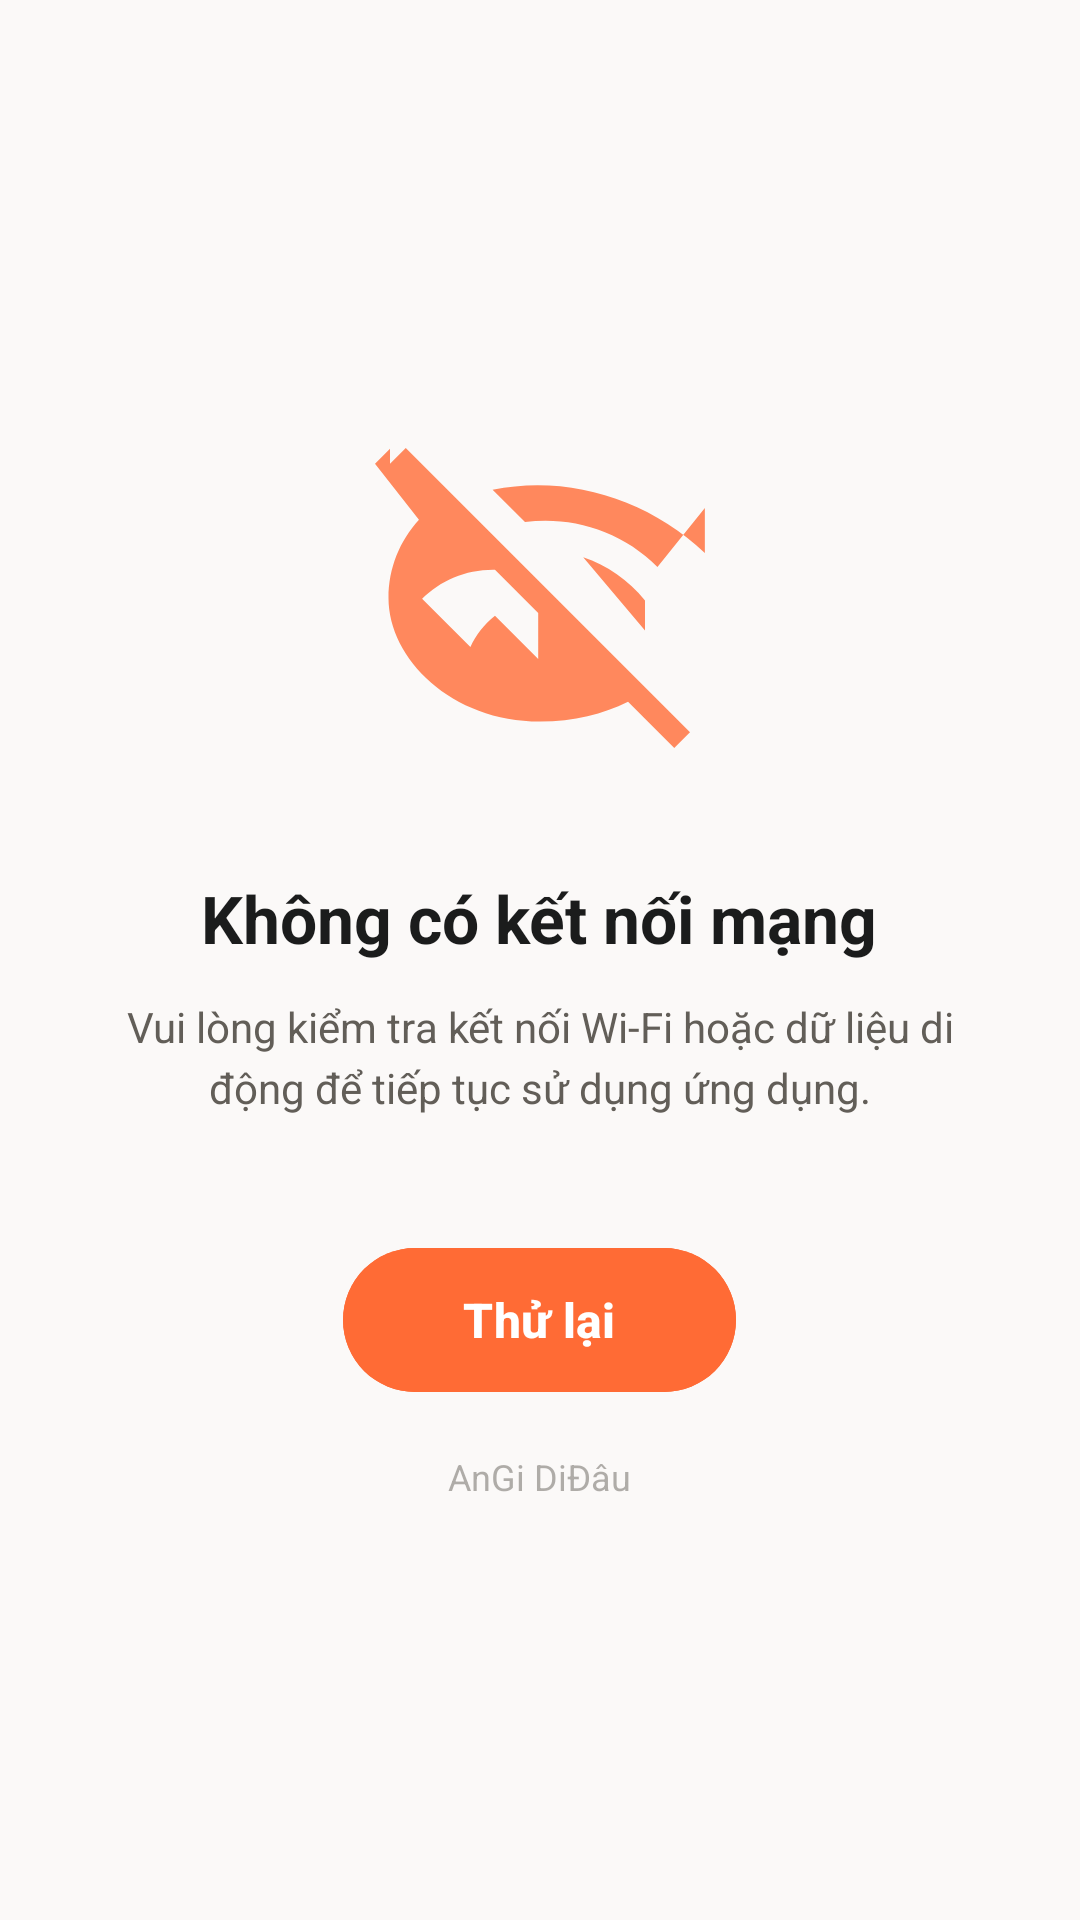

Screen size 1080×1920. Icon name, then its center in pixels as [x,y]:
wifi off: [540,598]
